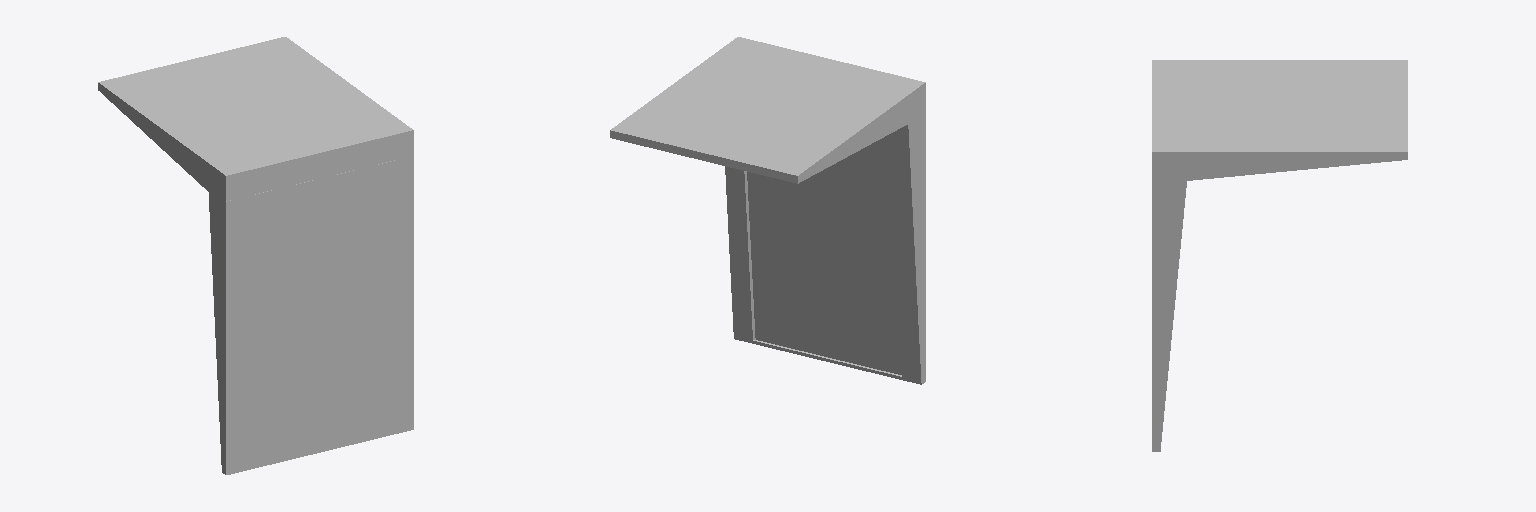
The model's file is BasketballHoop_Handle.obj.
3 views of the same model, side by side, from view 1: azimuth 30°, elevation 25°; view 2: azimuth 150°, elevation 25°; view 3: azimuth 270°, elevation 25° (orthographic).
Parts seen in each view (by area): view 1: Basketball_hoop_V02; view 2: Basketball_hoop_V02; view 3: Basketball_hoop_V02.
Part boxes in pixels (x1,y1,x2,y2): Basketball_hoop_V02: (98, 37, 413, 474); Basketball_hoop_V02: (610, 37, 925, 384); Basketball_hoop_V02: (1152, 60, 1407, 451).
Bounding box in the file's own units: 2.14 × 3.26 × 2.53.